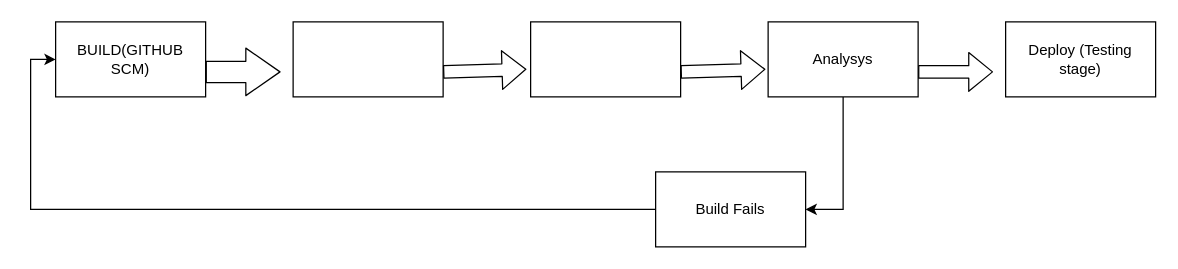
The diagram is 1178 pixels wide and 269 high, and some of its shapes have lost their labels. Each missing label, with the centre of its shape:
Login Cerditials: the point at 367,59
Test: the point at 605,59
